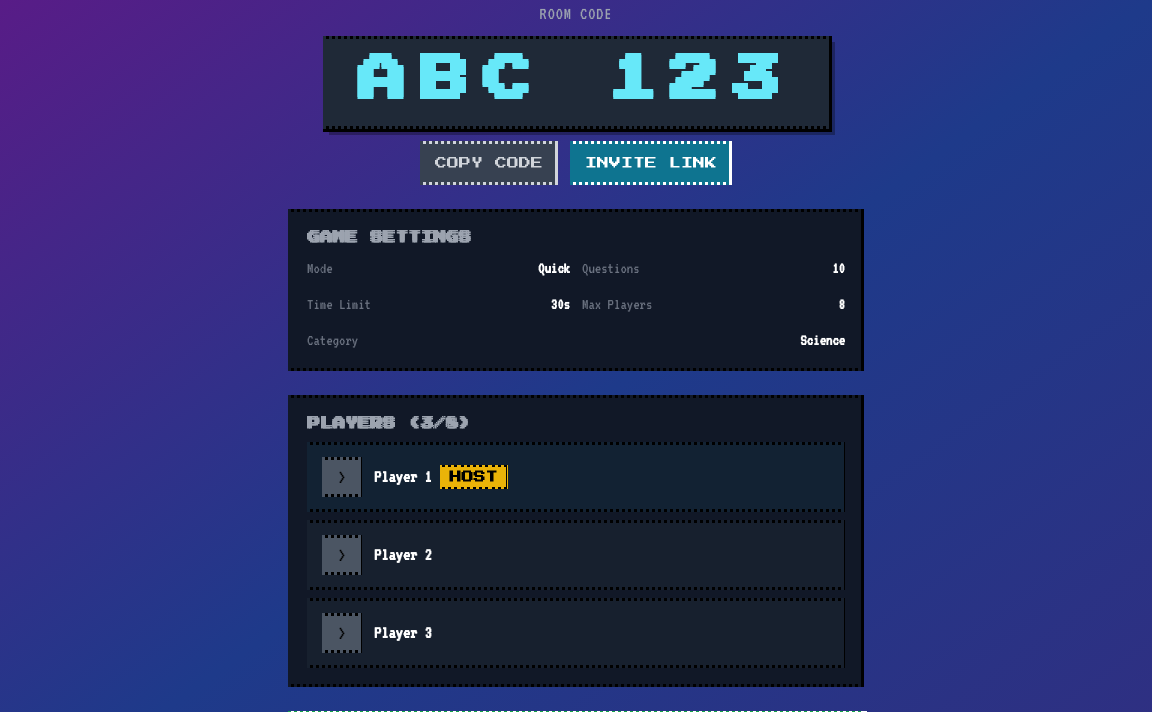
it: LobbyView › copy and share buttons › should copy invite URL when Web Share is not available
Click the button "INVITE LINK": (651, 163) [570,141,732,185]
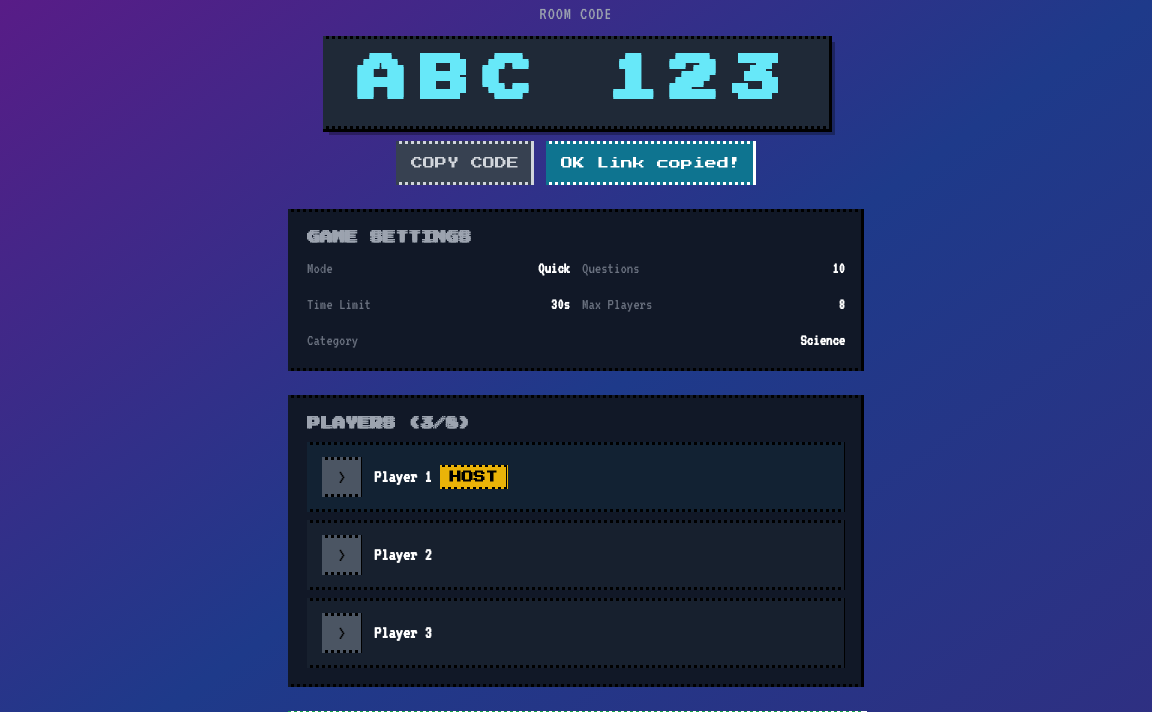
Expected: the button "OK Link copied!" is shown, [546,141,756,185]
